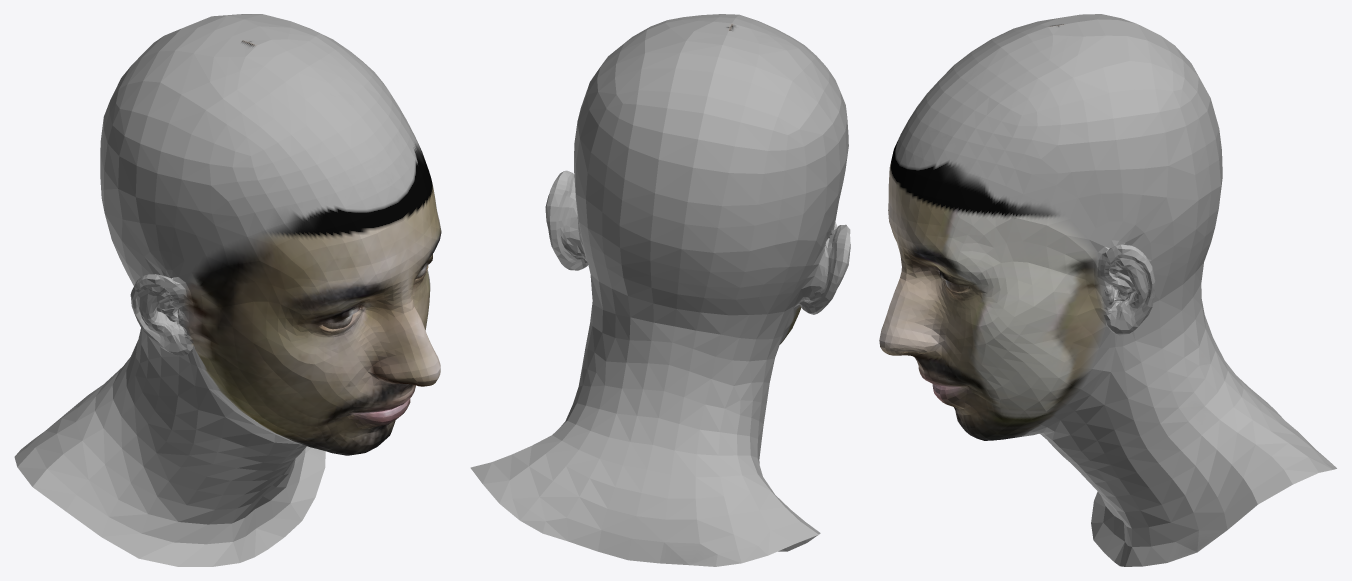
Rendered from ezgif-frame-036.obj.
3 renders of one model, left to right at view 1: azimuth 30°, elevation 25°; view 2: azimuth 150°, elevation 25°; view 3: azimuth 270°, elevation 25°, orthographic. The views are drawn at different scales.
Size of the model in its own units: 0.1997 by 0.3268 by 0.2639.
1 material, 1 textured.
